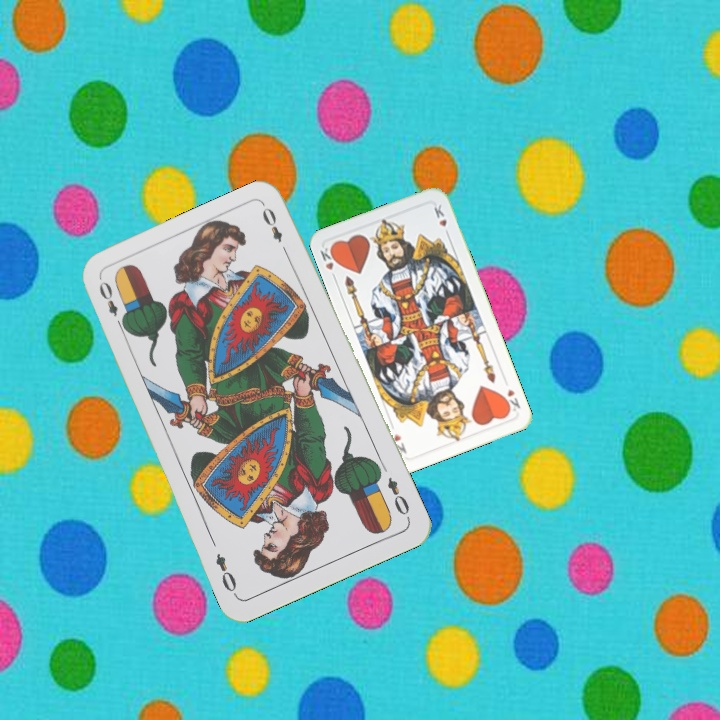EO: (95, 277, 128, 332), (383, 473, 412, 518)
HK: (316, 242, 341, 283), (499, 385, 523, 416)
